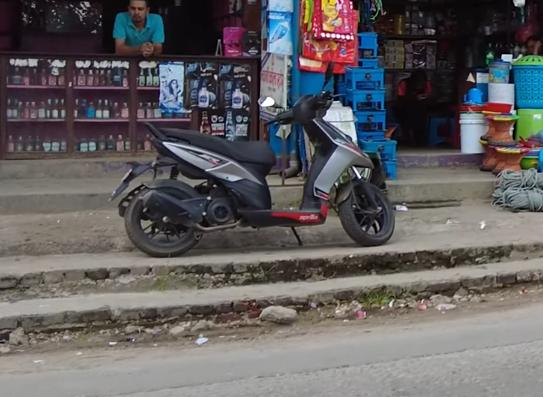scooter: (106, 56, 399, 256)
